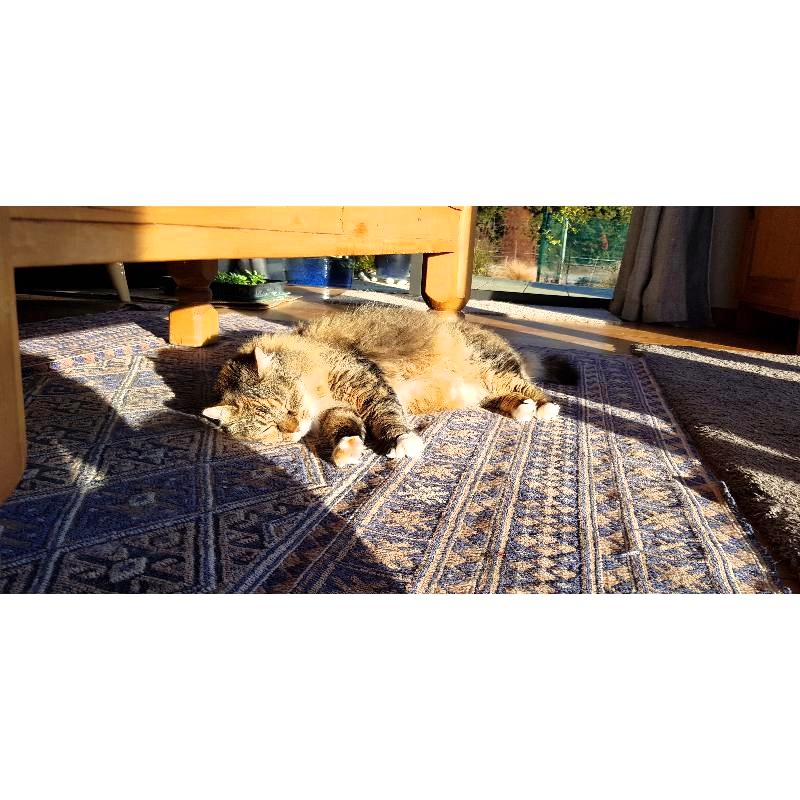yellow: (202, 306, 557, 468)
